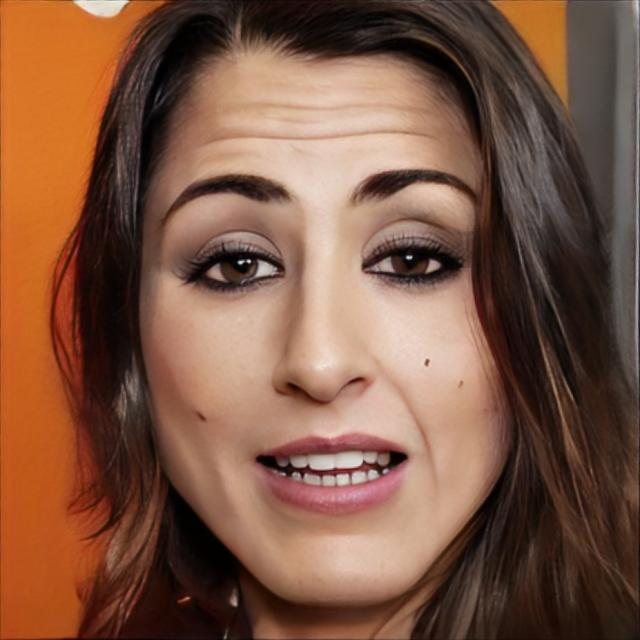surprise: (138, 36, 521, 606)
